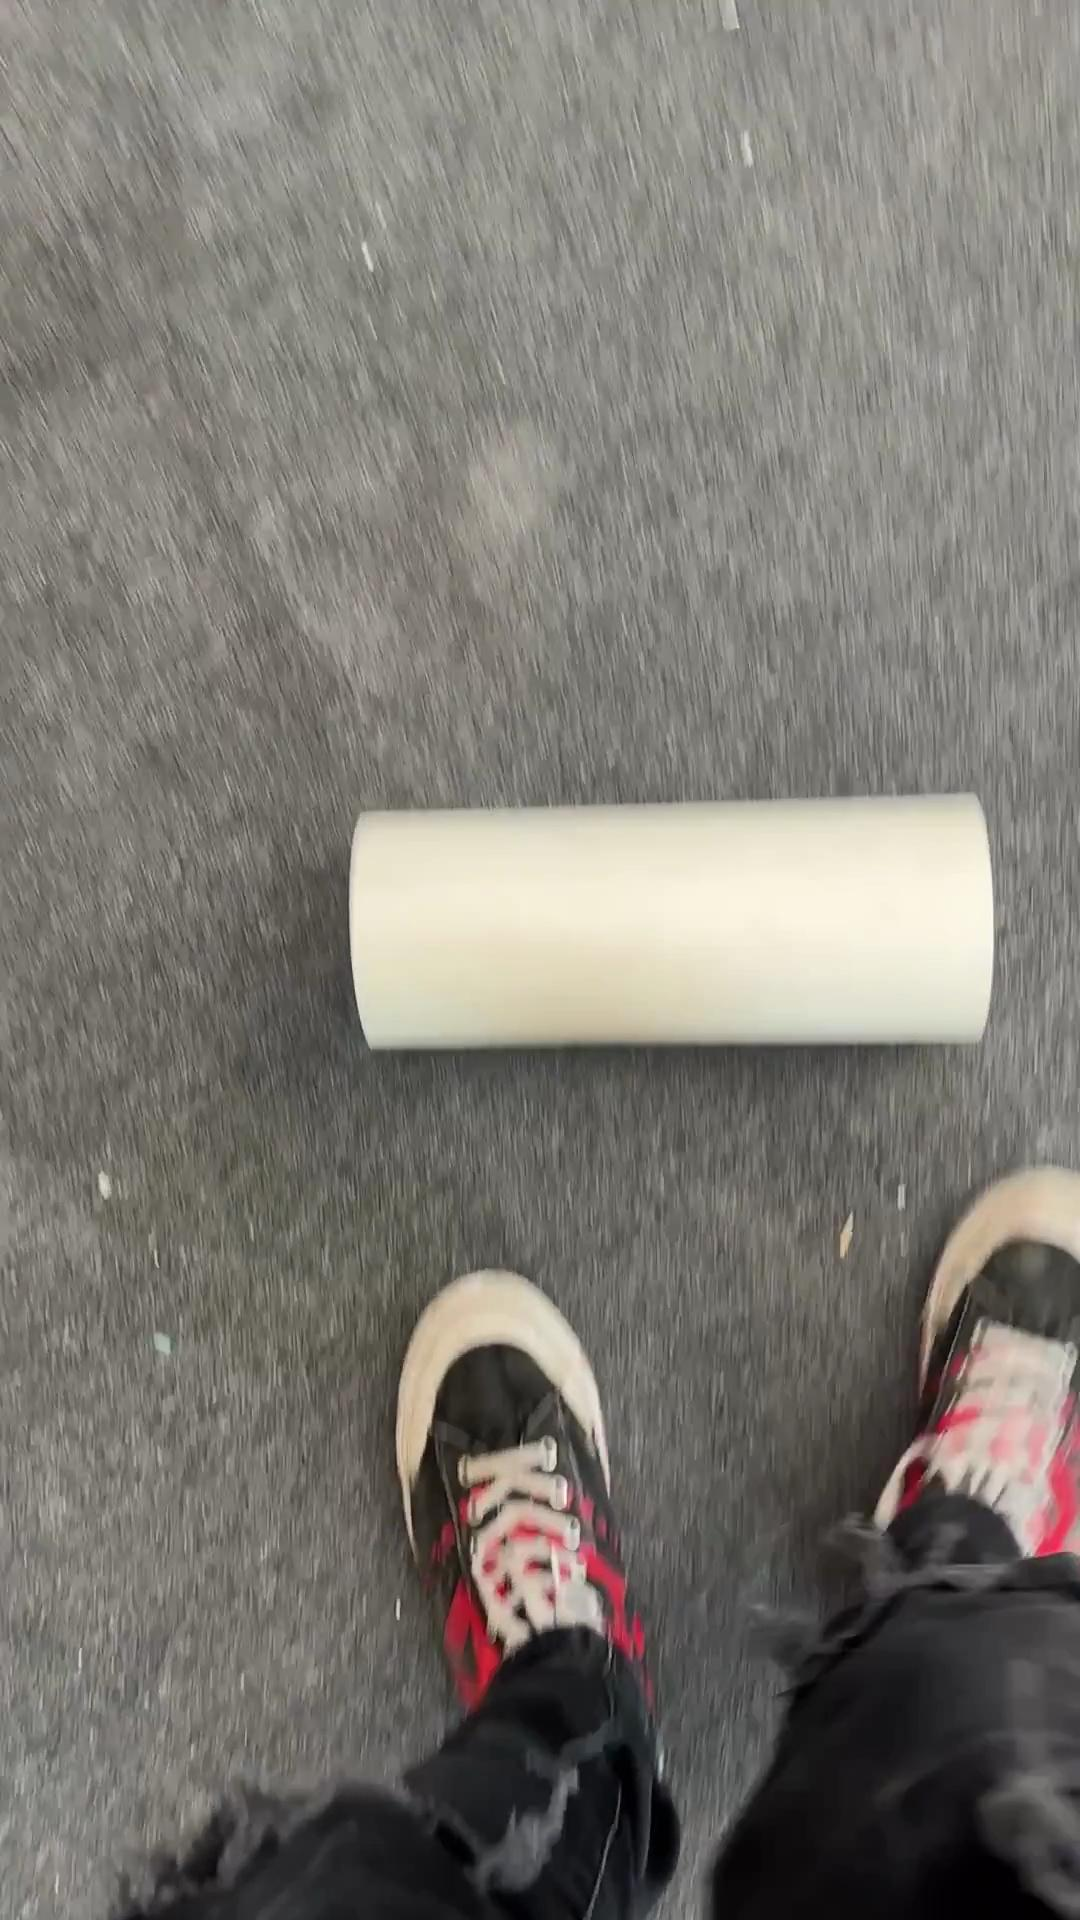CORAL: (345, 789, 996, 1054)
